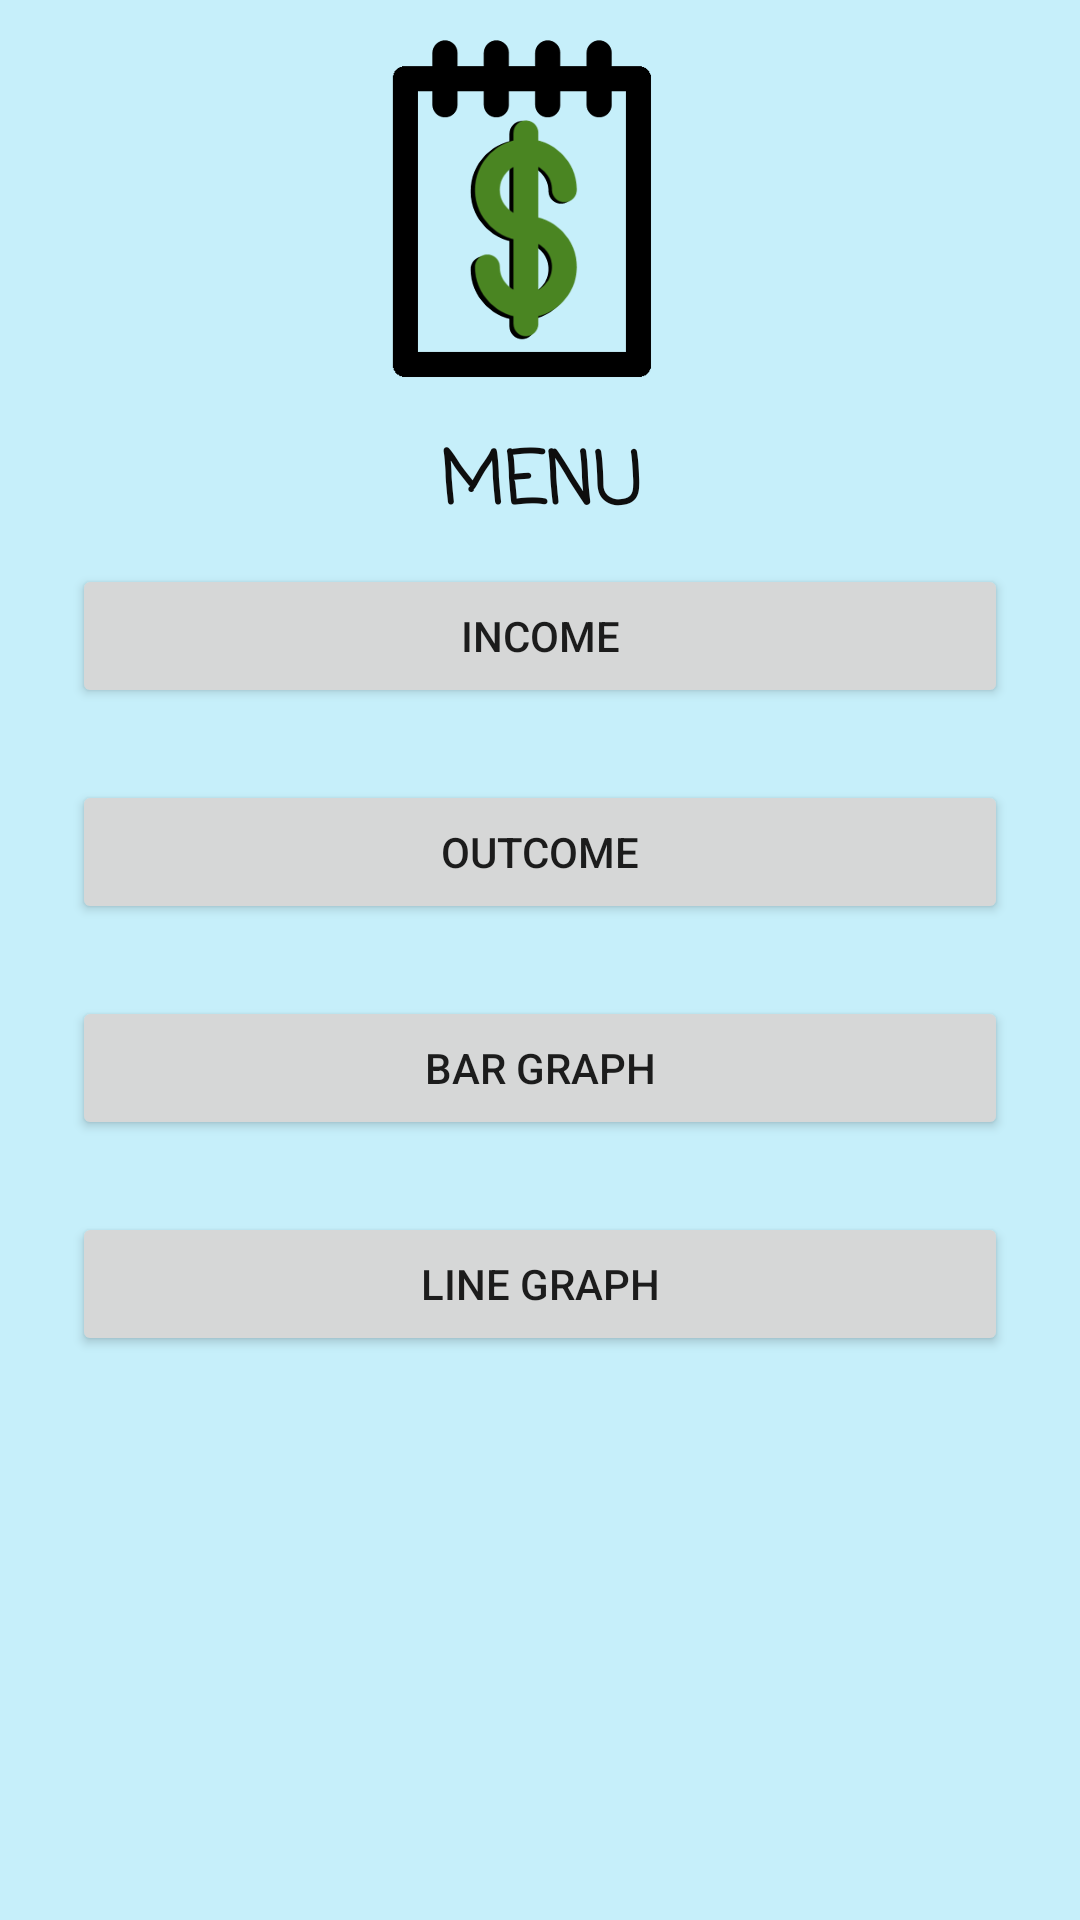

Icons on this 1080x1920 Android screen, each with the point to tap as (x,y):
moneynotepic: (521,208)
